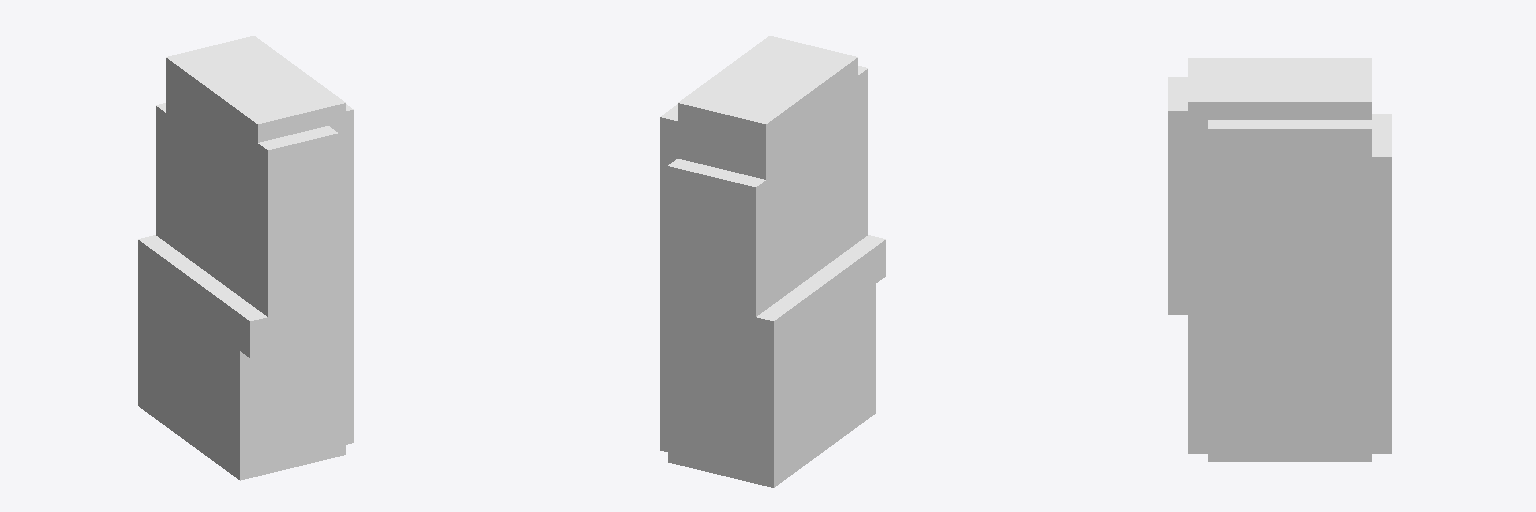
Rendered from Character-2-RarmUp.obj.
The picture shows the model from 3 angles: view 1: azimuth 30°, elevation 25°; view 2: azimuth 150°, elevation 25°; view 3: azimuth 270°, elevation 25°; orthographic projection.
Visible parts, largest first — view 1: RarmUp; view 2: RarmUp; view 3: RarmUp.
Part boxes in pixels (x1,y1,x2,y2): RarmUp: (138,36,353,480); RarmUp: (660,36,885,487); RarmUp: (1168,58,1391,461).
Size of the model in its own units: 0.7 by 1.9 by 1.1.